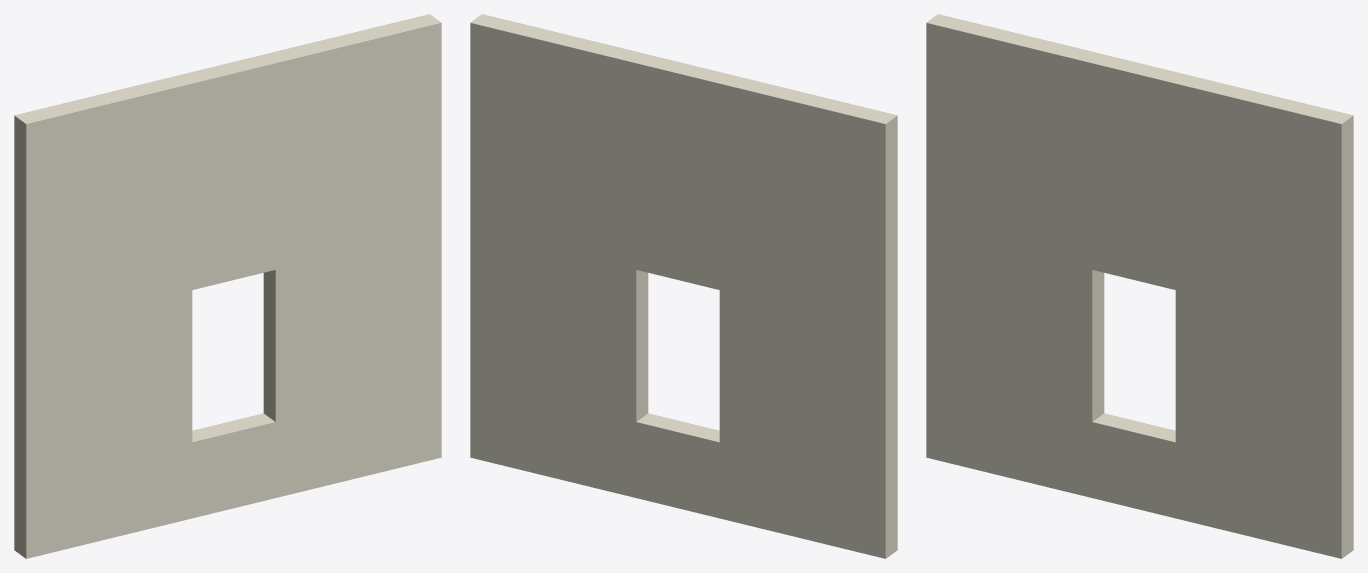
File: Wall_Window_400x400.glb
The picture shows the model from 3 angles, left to right: view 1: azimuth 30°, elevation 25°; view 2: azimuth 150°, elevation 25°; view 3: azimuth 330°, elevation 25°; orthographic projection.
Parts seen in each view (by area): view 1: Wall_Window_400x400; view 2: Wall_Window_400x400; view 3: Wall_Window_400x400.
Boxes of the visible parts, x1=… form: Wall_Window_400x400: x1=14, y1=14, x2=441, y2=558; Wall_Window_400x400: x1=470, y1=14, x2=897, y2=558; Wall_Window_400x400: x1=926, y1=14, x2=1353, y2=558.
Size of the model in its own units: 4 by 4 by 0.2.
